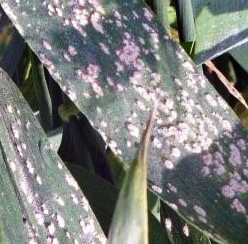Powdery Mildew: (81, 15, 248, 213)
